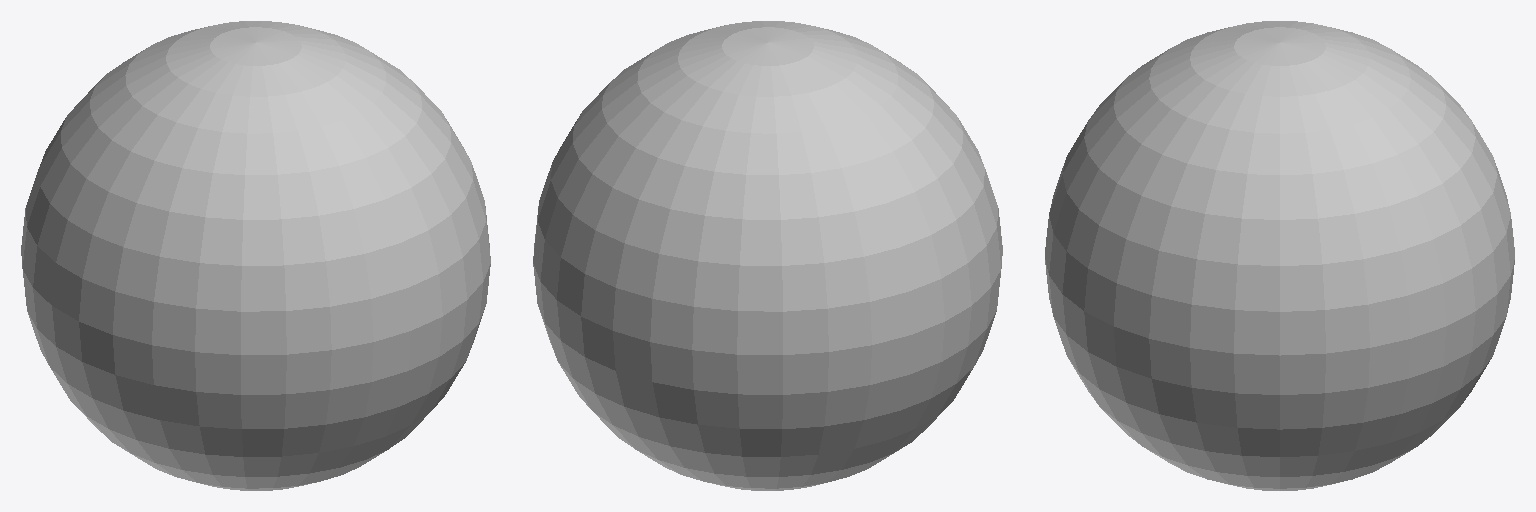
Rendered from ball.obj.
3 views of the same model, side by side, from view 1: azimuth 30°, elevation 25°; view 2: azimuth 150°, elevation 25°; view 3: azimuth 270°, elevation 25° (orthographic).
Parts seen in each view (by area): view 1: Sphere; view 2: Sphere; view 3: Sphere.
Part boxes in pixels (x1,y1,x2,y2): Sphere: (21, 21, 490, 490); Sphere: (533, 21, 1002, 490); Sphere: (1045, 21, 1514, 490).
Bounding box in the file's own units: 0.4358 × 0.4358 × 0.4358.